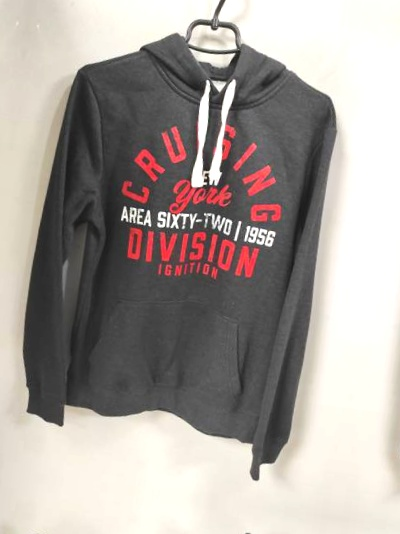Hoodie: (0, 0, 368, 478), (372, 48, 400, 529), (0, 508, 300, 534), (0, 0, 13, 431)
